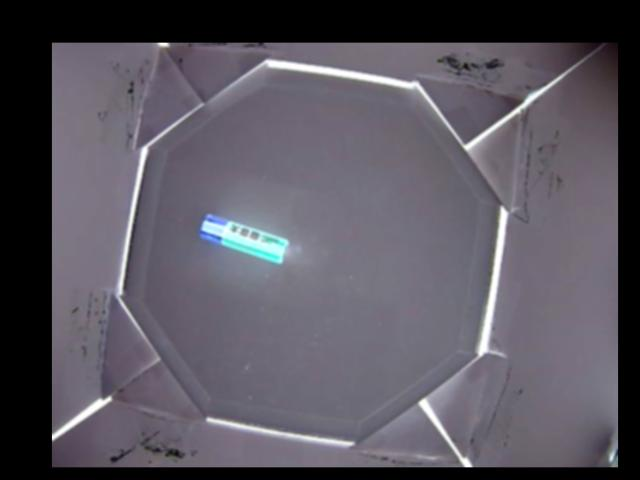Battery: (200, 212, 290, 261)
